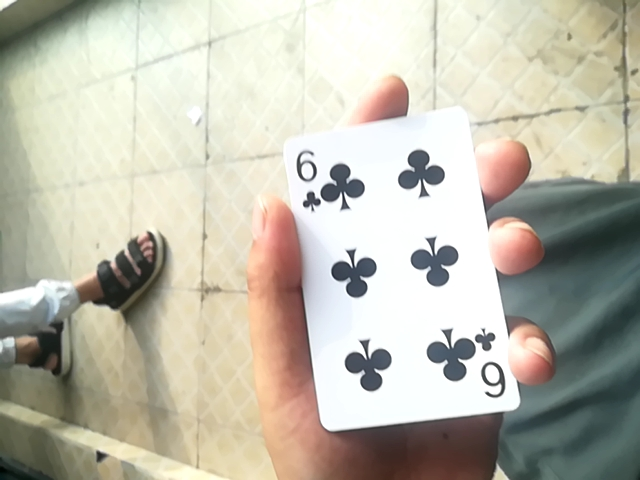mh 6: (286, 102, 533, 445)
